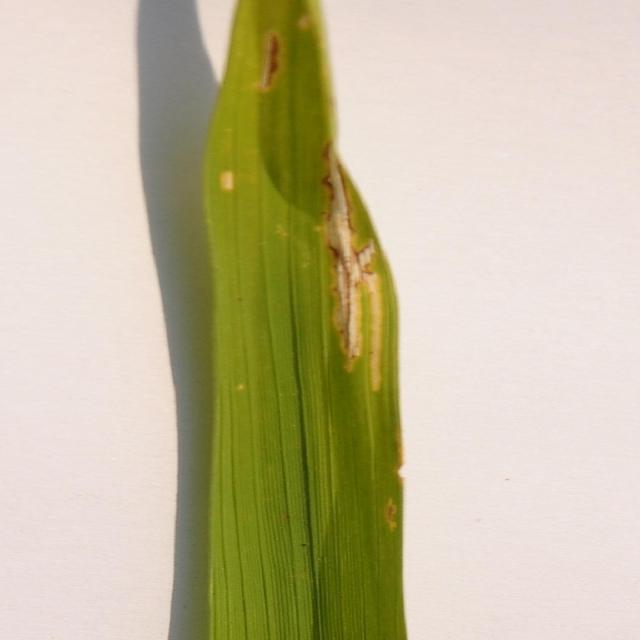Bacterial leaf blight: (308, 132, 396, 376), (257, 19, 295, 112), (208, 156, 248, 216), (379, 493, 402, 542), (231, 371, 254, 416)
